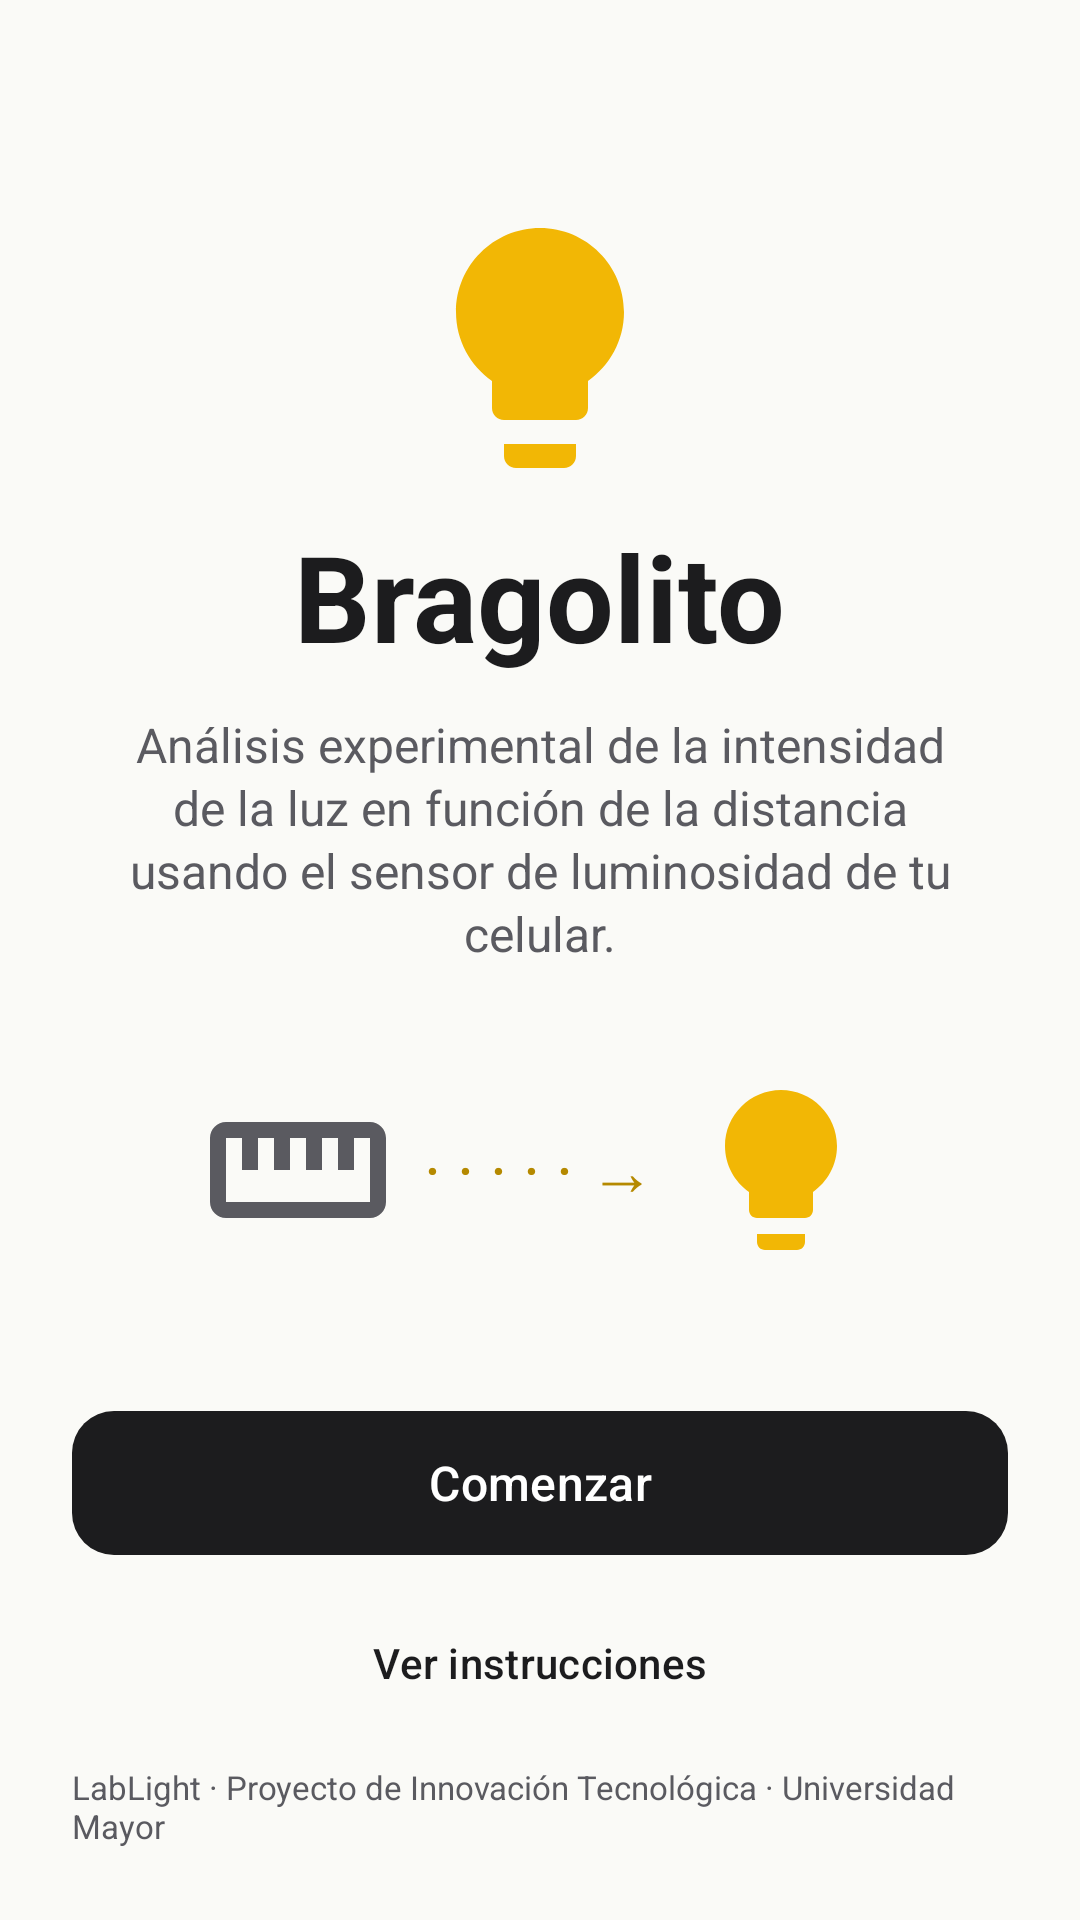

Icon click points for this 1080w x 1920h phone screenshot, format point (x, y):
bulb: point (539, 348), point (781, 1170)
ruler: point (298, 1170)
